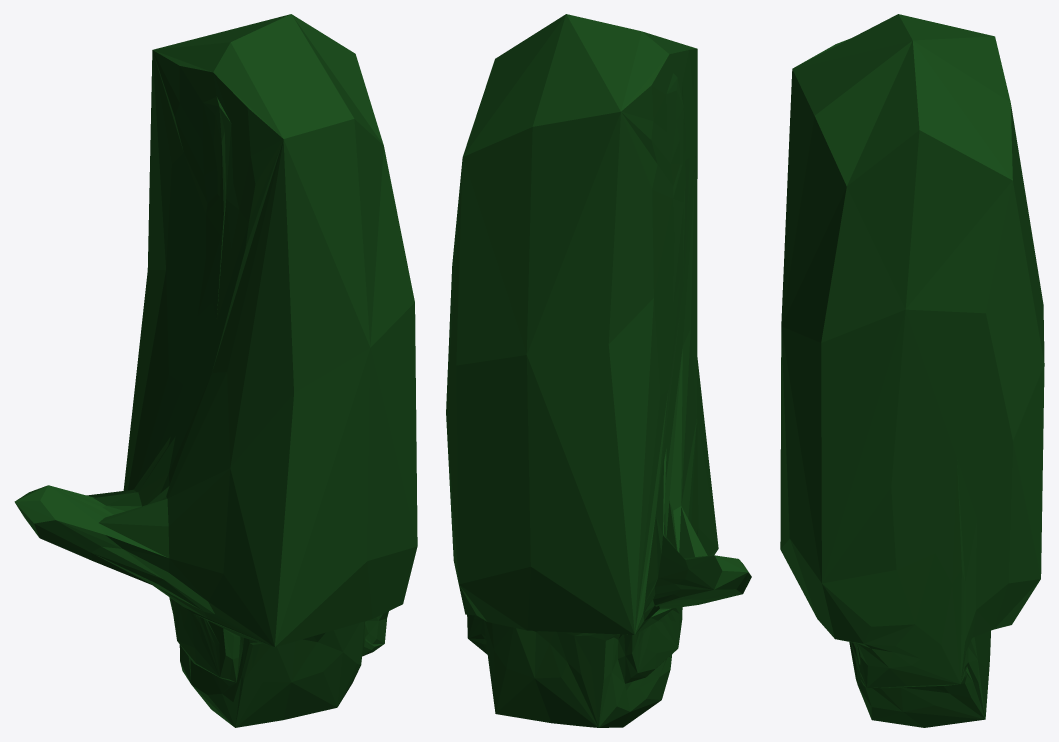
3 renders of one model, left to right at view 1: azimuth 30°, elevation 25°; view 2: azimuth 150°, elevation 25°; view 3: azimuth 270°, elevation 25°, orthographic. The views are drawn at different scales.
Visible parts, largest first — view 1: 096_Cube.401; view 2: 096_Cube.401; view 3: 096_Cube.401.
Part boxes in pixels (left/top/right/bottom): 096_Cube.401: left=14, top=14, right=417, bottom=727; 096_Cube.401: left=446, top=14, right=751, bottom=727; 096_Cube.401: left=780, top=14, right=1044, bottom=727.
Size of the model in its own units: 6.97 by 14.63 by 5.14.
